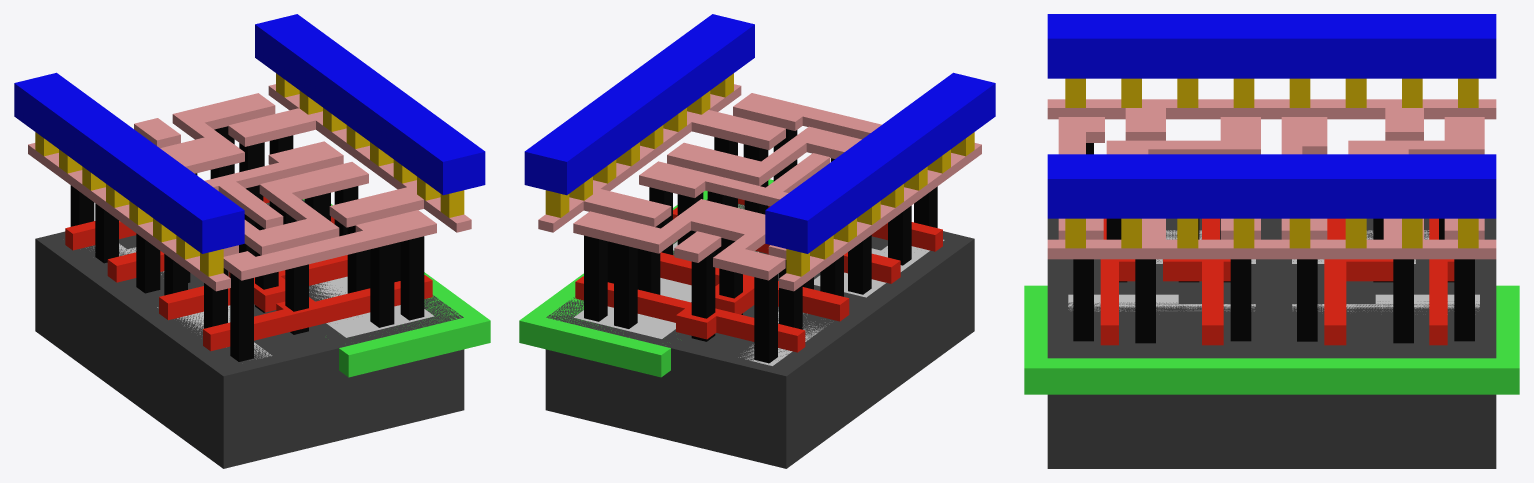
The model's file is sky130_fd_sc_hd__clkdlybuf4s18_1.obj.
3 views of the same model, side by side, from view 1: azimuth 30°, elevation 25°; view 2: azimuth 150°, elevation 25°; view 3: azimuth 270°, elevation 25° (orthographic). The views are drawn at different scales.
Parts seen in each view (by area): view 1: subs, metal1, li, licon, poly, nwell, mcon, tap, diff; view 2: subs, metal1, li, licon, poly, nwell, mcon, tap, diff; view 3: subs, metal1, li, nwell, licon, poly, mcon, tap.
Part boxes in pixels (bbox=[...]): subs: bbox=[35, 199, 464, 468]; metal1: bbox=[14, 14, 485, 253]; li: bbox=[28, 84, 471, 291]; licon: bbox=[70, 126, 424, 361]; poly: bbox=[65, 196, 432, 351]; nwell: bbox=[303, 199, 490, 377]; mcon: bbox=[35, 73, 464, 276]; tap: bbox=[309, 276, 434, 337]; diff: bbox=[86, 243, 272, 359]; subs: bbox=[545, 199, 974, 468]; metal1: bbox=[524, 14, 995, 253]; li: bbox=[538, 84, 981, 291]; licon: bbox=[584, 129, 937, 363]; poly: bbox=[575, 198, 942, 352]; nwell: bbox=[519, 179, 773, 377]; mcon: bbox=[545, 73, 974, 276]; tap: bbox=[574, 204, 758, 338]; diff: bbox=[738, 239, 944, 365]; subs: bbox=[1047, 218, 1496, 468]; metal1: bbox=[1047, 14, 1496, 218]; li: bbox=[1047, 99, 1496, 259]; nwell: bbox=[1024, 285, 1519, 394]; licon: bbox=[1073, 143, 1474, 343]; poly: bbox=[1100, 218, 1454, 345]; mcon: bbox=[1065, 78, 1478, 248]; tap: bbox=[1068, 294, 1479, 311].
Size of the model in its own units: 3.2 by 2.74 by 4.06.
